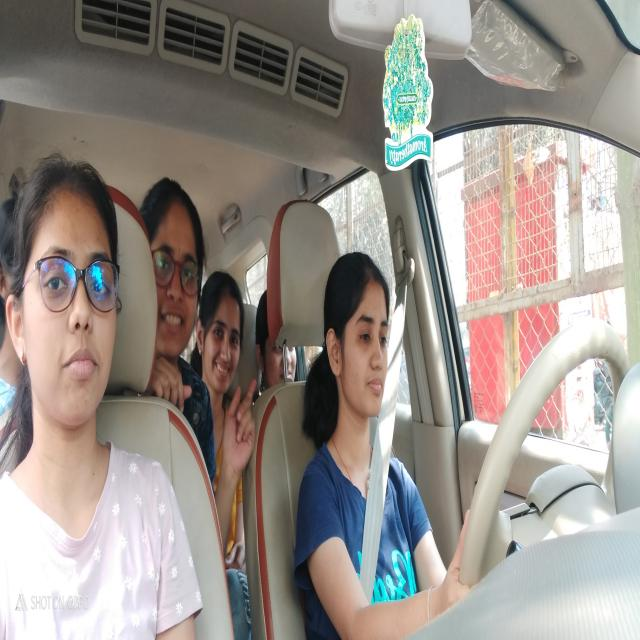person: (25, 190, 117, 411), (324, 255, 395, 418), (150, 196, 206, 356), (208, 284, 246, 395), (263, 315, 302, 384)
